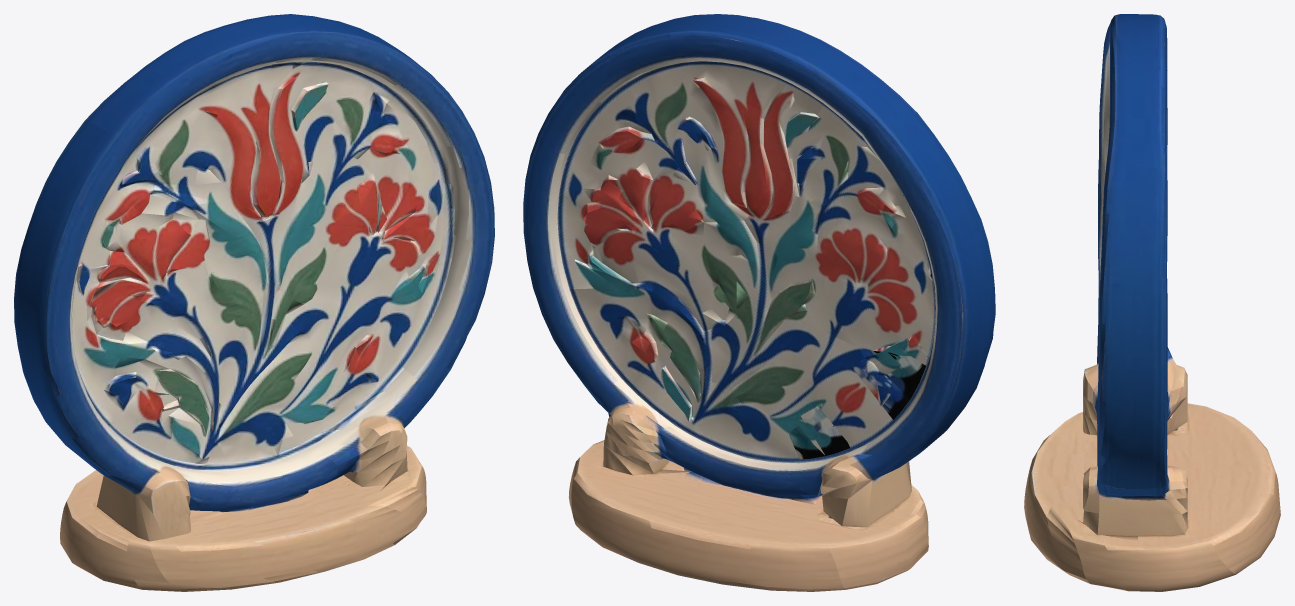
File: cini.glb
3 views of the same model, side by side, from view 1: azimuth 30°, elevation 25°; view 2: azimuth 150°, elevation 25°; view 3: azimuth 270°, elevation 25° (orthographic). The views are drawn at different scales.
Visible parts, largest first — view 1: Mesh0; view 2: Mesh0; view 3: Mesh0.
Boxes of the visible parts, x1=… form: Mesh0: x1=14, y1=14, x2=494, y2=591; Mesh0: x1=523, y1=14, x2=995, y2=591; Mesh0: x1=1024, y1=14, x2=1280, y2=591.
Bounding box in the file's own units: 1.78 × 1.9 × 0.9223.
Materials: 1 (1 with a texture image).
